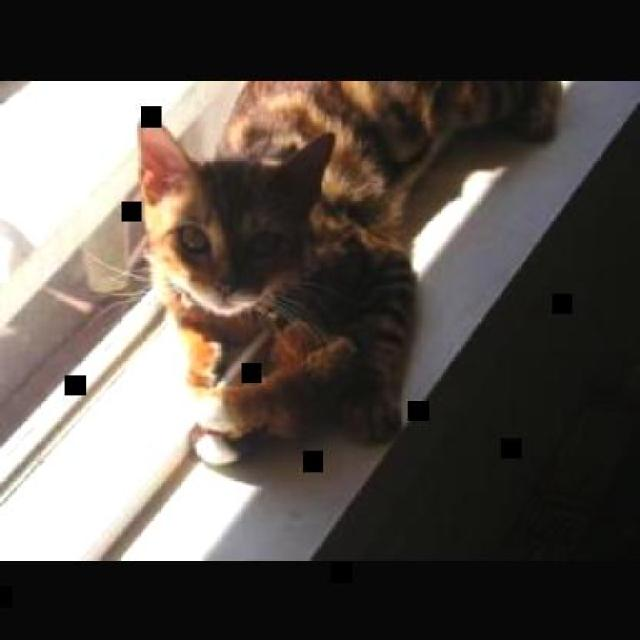unauthorized: (88, 77, 563, 468)
